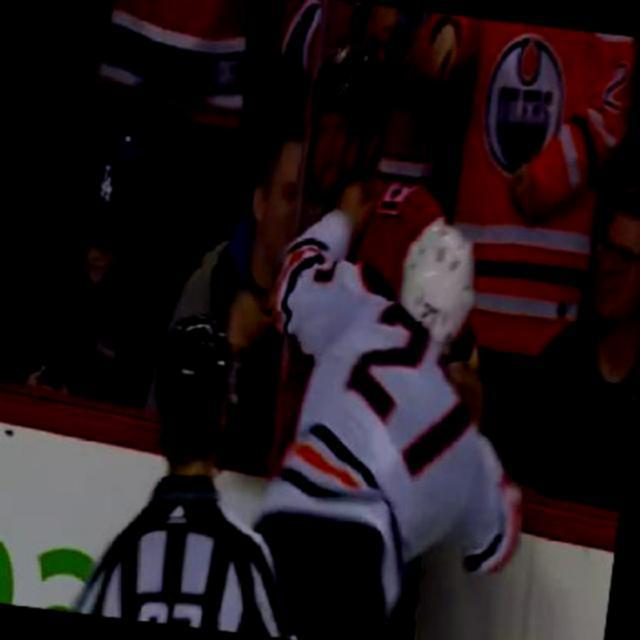fight: (242, 31, 578, 616)
